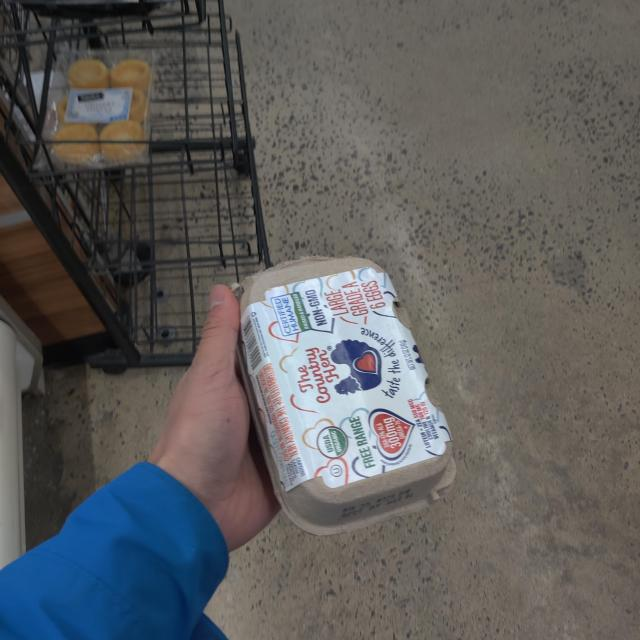Eggs: (219, 249, 476, 555)
